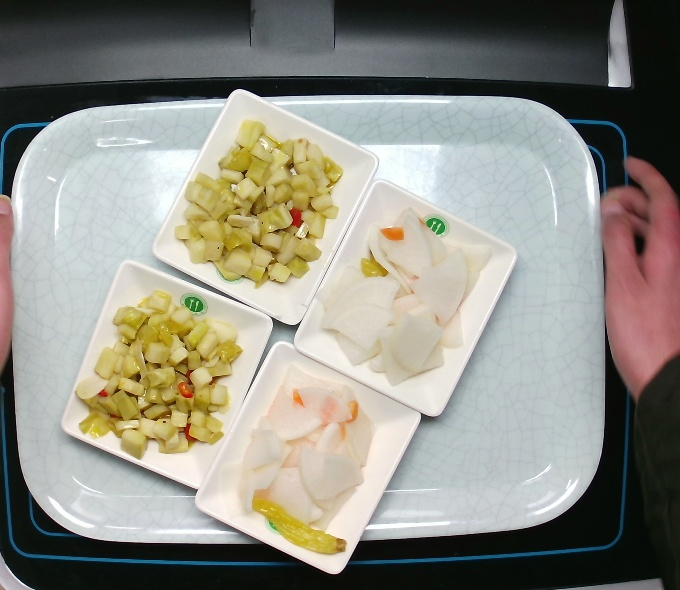wcq-LuLuoBo: (319, 201, 487, 393), (235, 367, 376, 560)
wcq-TangCuOu: (175, 116, 357, 293), (77, 283, 246, 457)
